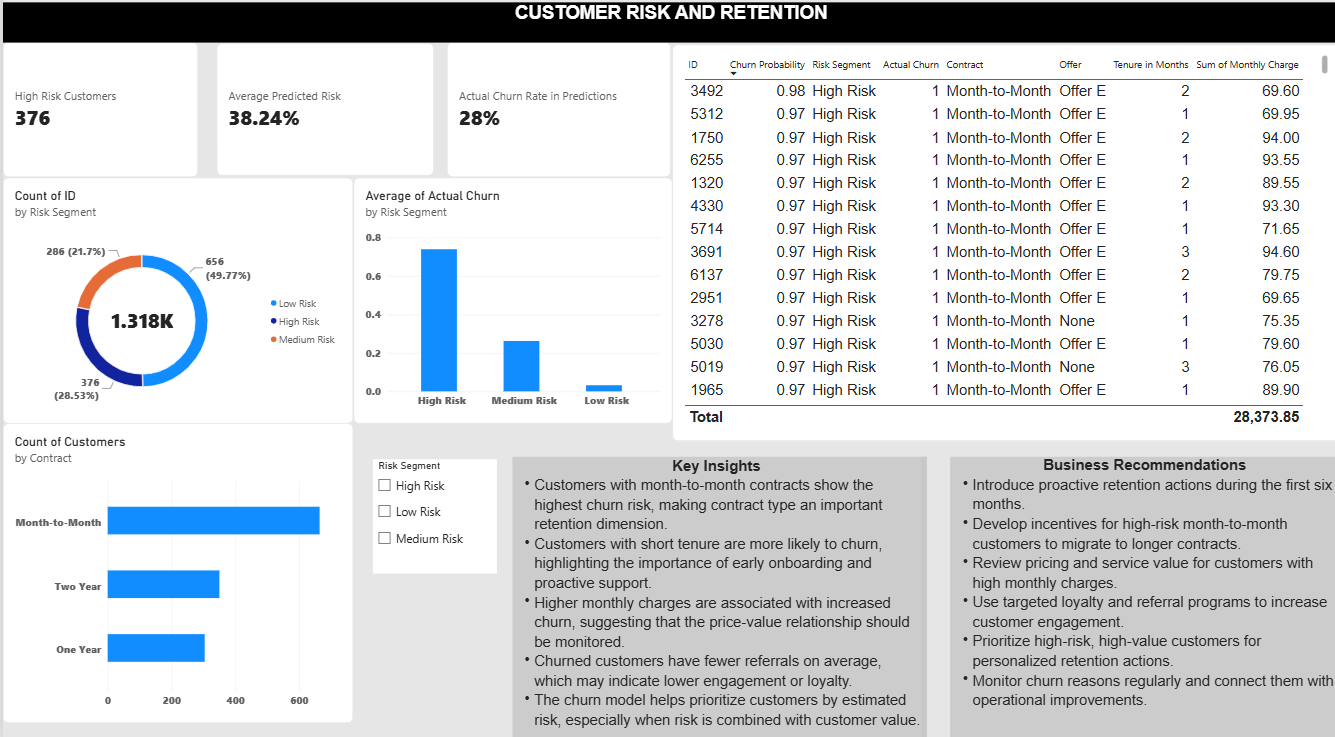

The page's visual inventory and layout, read from the dashboard file:
{"tool":"powerbi","page":{"name":"Customer risk & retention","canvas":[1920,1080],"ordinal":1},"visuals":[{"type":"cardVisual","fields":{"Data":["customer_churn_predictions.High Risk Customers"]},"box":[0,79.2,280.4,194.8],"z":0},{"type":"cardVisual","fields":{"Data":["customer_churn_predictions.Average Predicted Risk"]},"box":[307.2,80.9,312.5,190.5],"z":1},{"type":"cardVisual","fields":{"Data":["customer_churn_predictions.Actual Churn Rate in Predictions"]},"box":[637.9,79.2,321.1,194.8],"z":2},{"type":"donutChart","fields":{"Category":["customer_churn_predictions.Risk Segment"],"Y":["CountNonNull(customer_churn_predictions.ID)"]},"box":[0,274,503.1,353.2],"z":3},{"type":"columnChart","fields":{"Category":["customer_churn_predictions.Risk Segment"],"Y":["Avg(customer_churn_predictions.Actual Churn)"]},"box":[503.1,274,458.1,353.2],"z":4},{"type":"barChart","fields":{"Category":["customer_churn_predictions.Contract"],"Y":["CountNonNull(customer_churn_predictions.ID)"]},"box":[0,627.2,503.1,430.3],"z":6},{"type":"tableEx","fields":{"Values":["customer_churn_predictions.ID","customer_churn_predictions.Churn Probability","customer_churn_predictions.Risk Segment","customer_churn_predictions.Actual Churn","customer_churn_predictions.Contract","customer_churn_predictions.Offer","customer_churn_predictions.Tenure in Months","Sum(customer_churn_predictions.Monthly Charge)"]},"box":[961.2,83.5,959,569.4],"z":7},{"type":"textbox","box":[0,21.4,1920.2,57.8],"z":8},{"type":"textbox","box":[732.1,674.3,595.1,406.7],"z":9},{"type":"textbox","box":[1361.1,675.1,559.2,406.5],"z":10},{"type":"slicer","fields":{"Values":["customer_churn_predictions.Risk Segment"]},"box":[531.6,678.7,178.4,163.7],"z":11}]}

Visuals, with their boxes in screenshot pixels (x1, y1, x2, y2), scaled from the page's 1920x1080 canvas onto the 1335x737 screenshot:
cardVisual - customer_churn_predictions.High Risk Customers: l=0, t=54, r=195, b=187
cardVisual - customer_churn_predictions.Average Predicted Risk: l=214, t=55, r=431, b=185
cardVisual - customer_churn_predictions.Actual Churn Rate in Predictions: l=444, t=54, r=667, b=187
donutChart - customer_churn_predictions.Risk Segment x CountNonNull(customer_churn_predictions.ID): l=0, t=187, r=350, b=428
columnChart - customer_churn_predictions.Risk Segment x Avg(customer_churn_predictions.Actual Churn): l=350, t=187, r=668, b=428
barChart - customer_churn_predictions.Contract x CountNonNull(customer_churn_predictions.ID): l=0, t=428, r=350, b=722
tableEx - customer_churn_predictions.ID x customer_churn_predictions.Churn Probability: l=668, t=57, r=1334, b=446
textbox: l=0, t=15, r=1334, b=54
textbox: l=509, t=460, r=923, b=736
textbox: l=946, t=461, r=1334, b=736
slicer - customer_churn_predictions.Risk Segment: l=370, t=463, r=494, b=575
